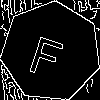F: (26, 26, 69, 80)
